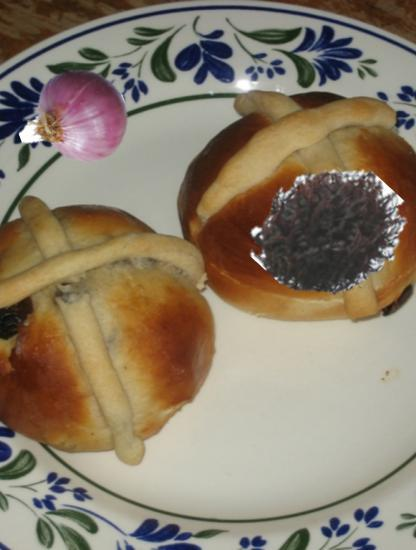Onion: (17, 64, 129, 176)
Rambutan: (258, 159, 404, 305)
